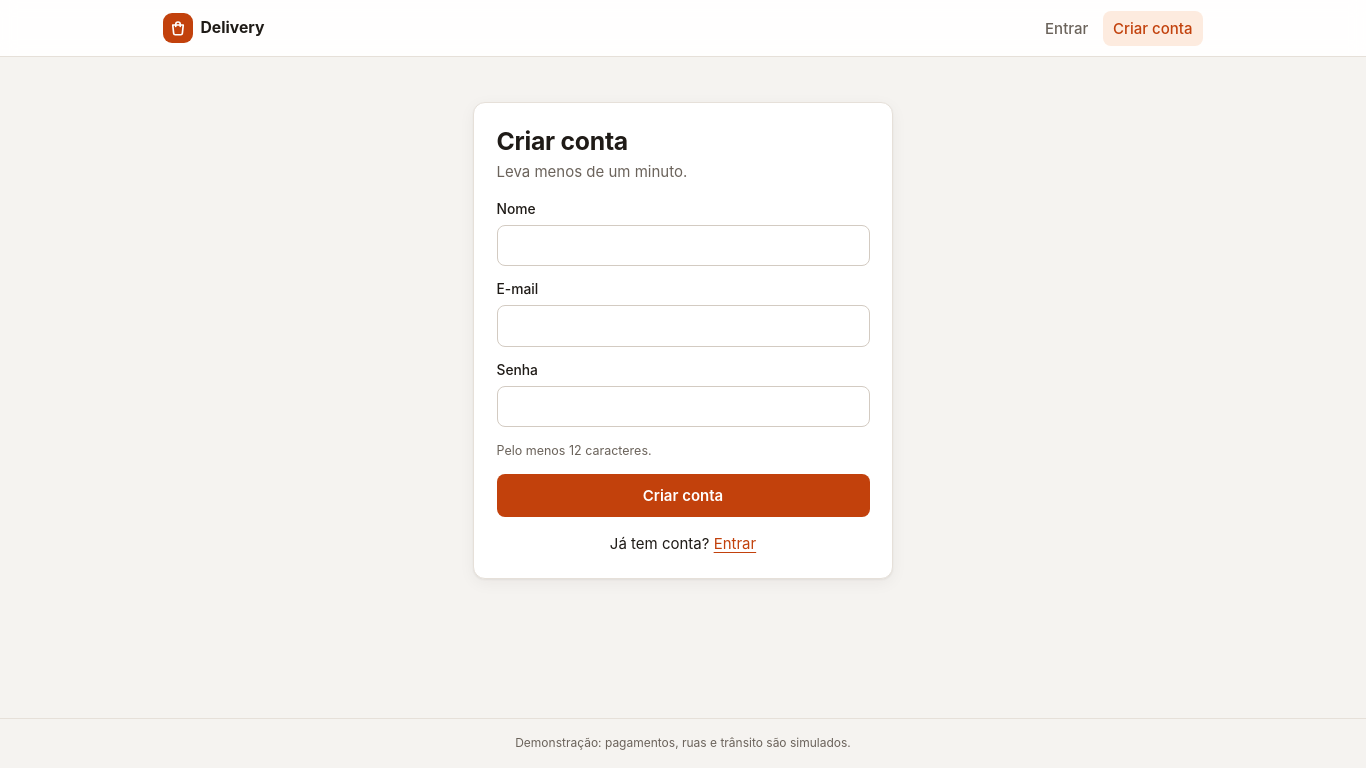
Test: App › registers and signs in the new account
Type "Cliente Demo" into the field labelled "Nome" at (683, 245), box [496, 225, 870, 266]
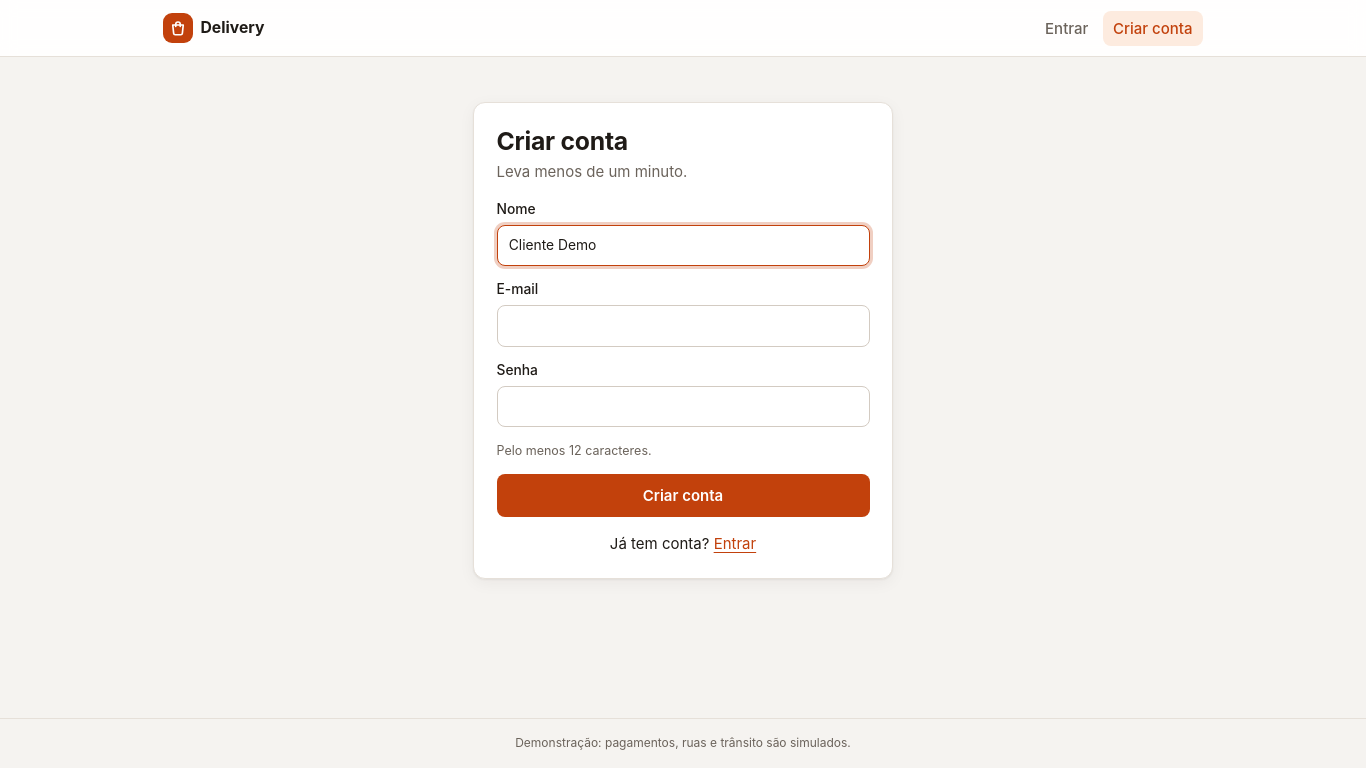
Type "demo@example.test" into the field labelled "E-mail" at (683, 326), box [496, 305, 870, 347]
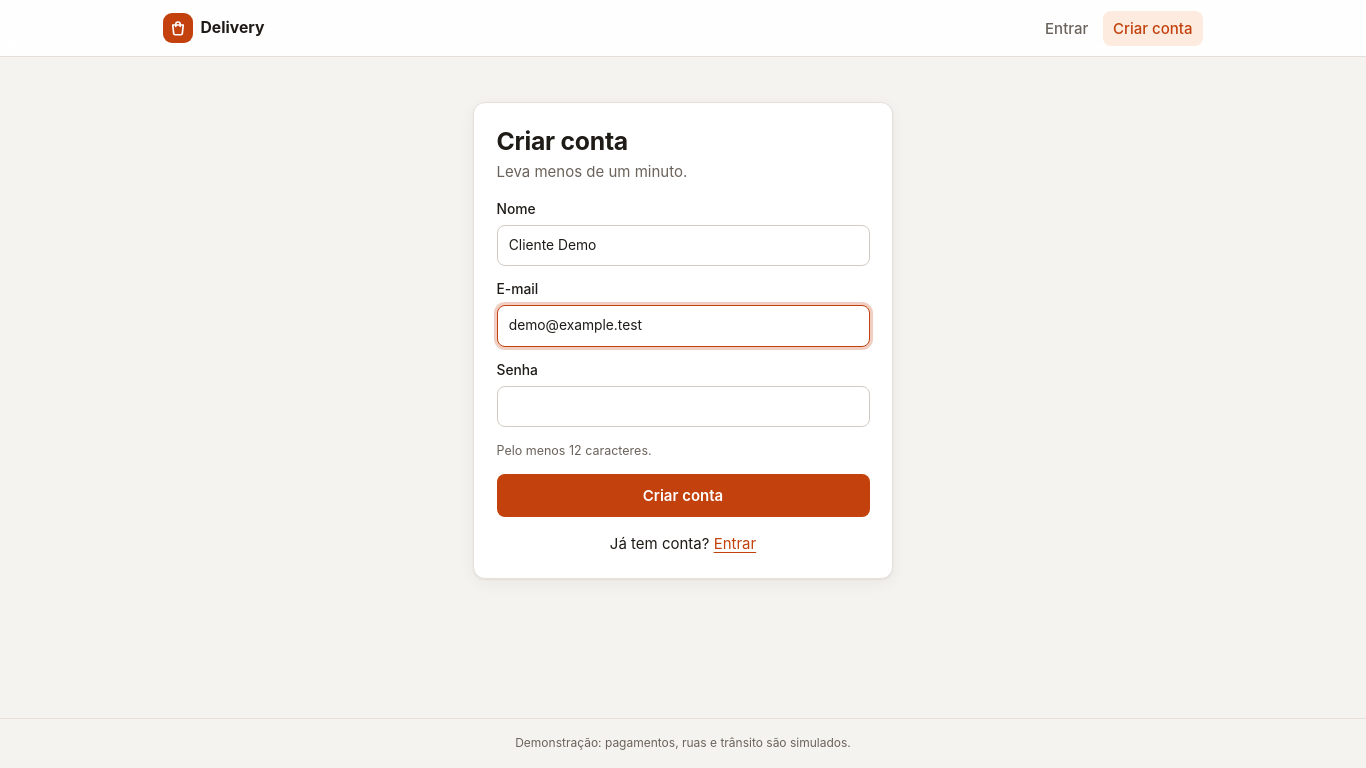
Type "senha-de-teste-123" into the password field labelled "Senha" at (683, 407), box [496, 386, 870, 428]
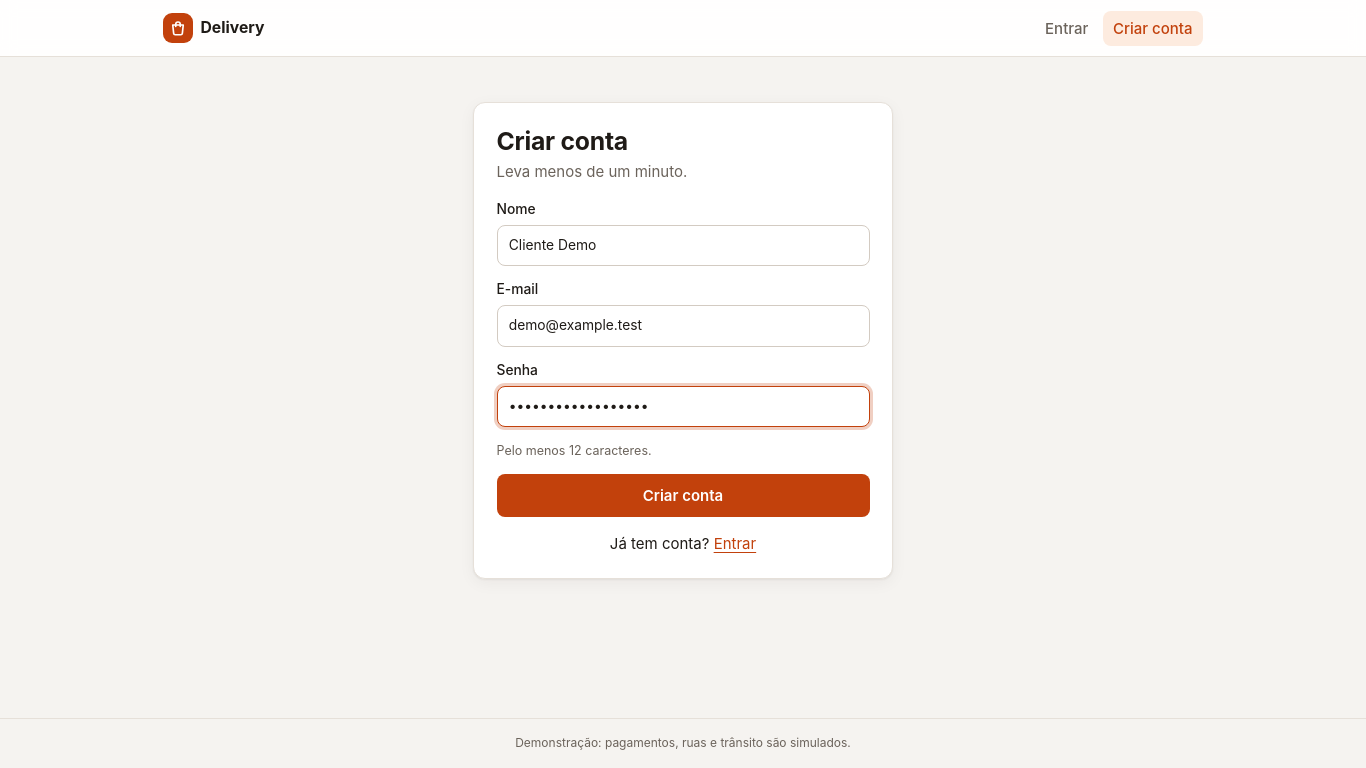
Click the button "Criar conta" at (683, 495), box [496, 474, 870, 517]
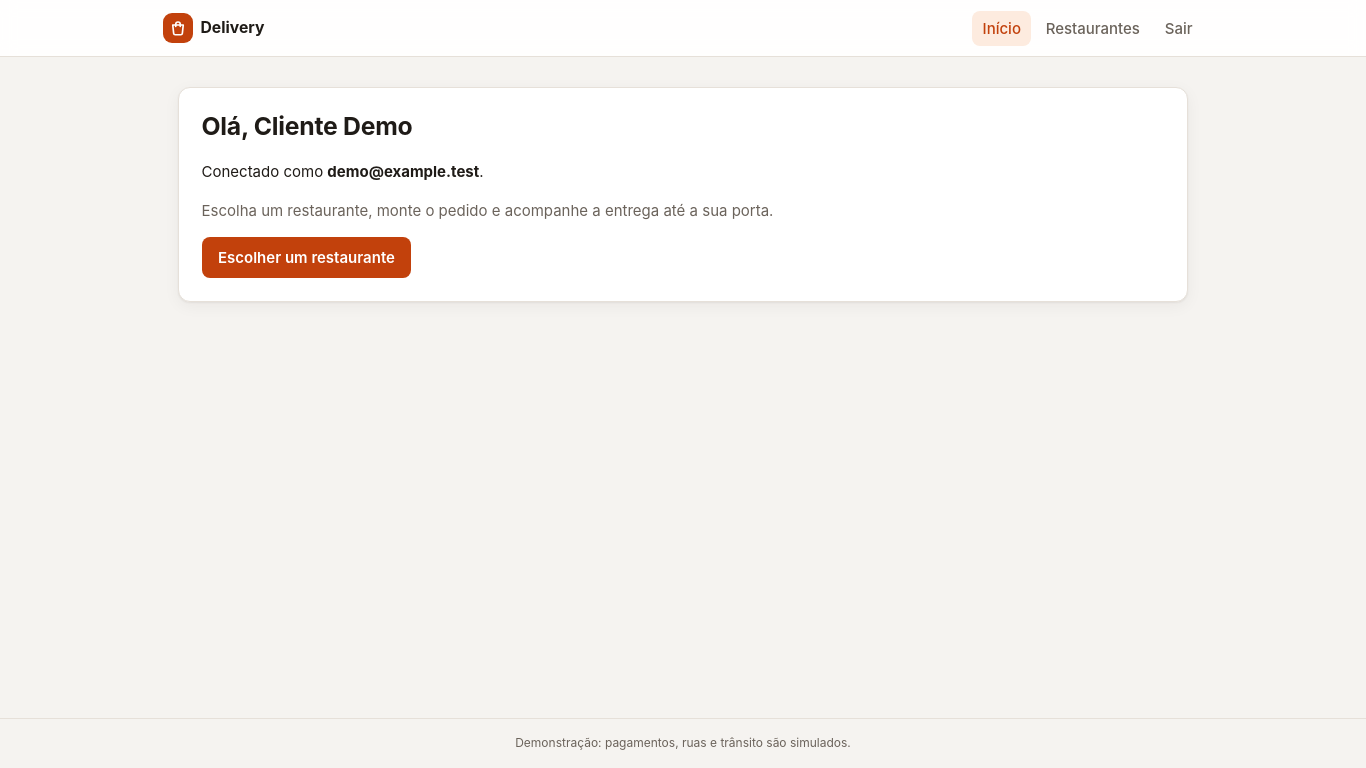
Expected: the heading "Olá, Cliente Demo" is shown, [202, 111, 412, 141]
